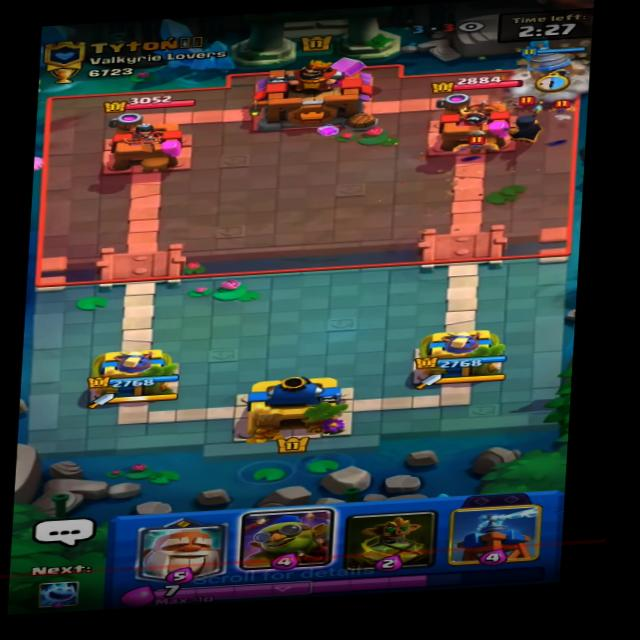bats: (447, 136, 503, 156), (545, 95, 581, 114)
night-witch: (500, 96, 557, 152)
